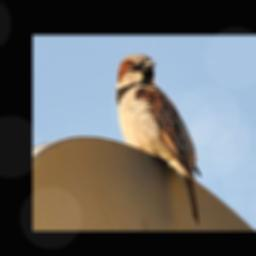Swallow: (113, 53, 200, 225)
